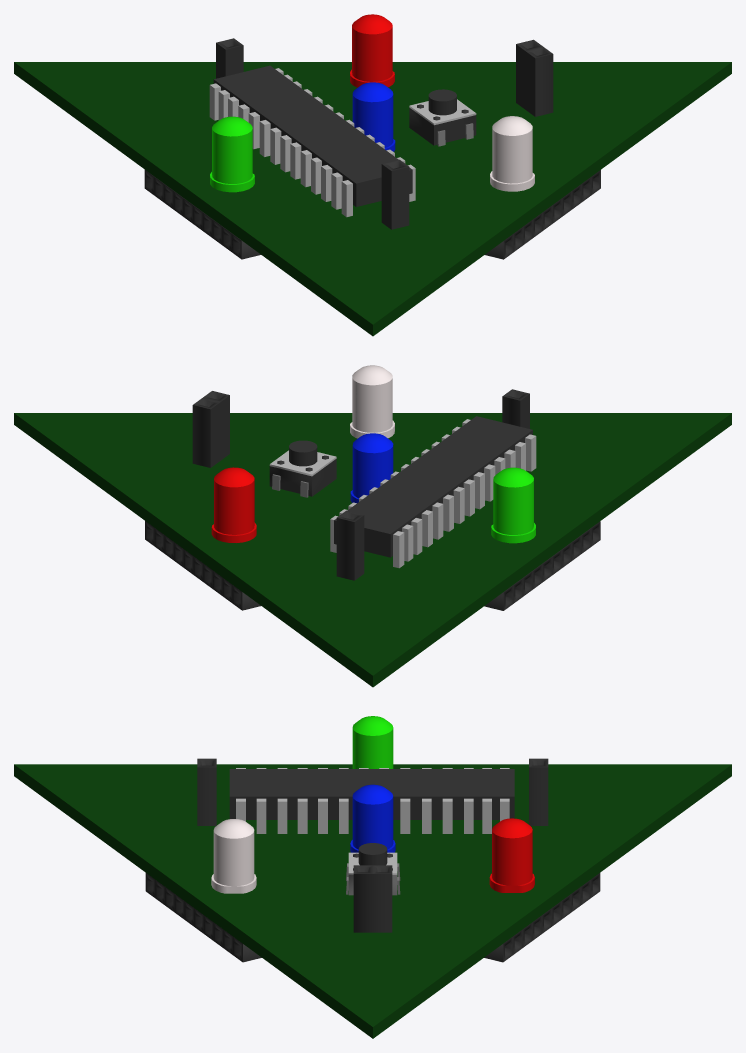
The model's file is componentBoard.obj.
3 views of the same model, one above another, from view 1: azimuth 30°, elevation 25°; view 2: azimuth 150°, elevation 25°; view 3: azimuth 270°, elevation 25° (orthographic).
Parts seen in each view (by area): view 1: pPyramid1, boardLayout:polySurface1, polySurface2, polySurface3, polySurface4, polySurface10, boardLayout:pCube3, polySurface1, pCube6, pCube9, polySurface8, polySurface9; view 2: pPyramid1, boardLayout:polySurface1, polySurface4, polySurface2, polySurface3, polySurface10, boardLayout:pCube3, polySurface1, pCube6, pCube10, polySurface9, polySurface8; view 3: pPyramid1, boardLayout:polySurface1, polySurface3, polySurface4, boardLayout:pCube3, polySurface1, pCube9, pCube10, polySurface2, polySurface10, polySurface8, polySurface9.
Boxes of the visible parts, x1=… form: pPyramid1: x1=14, y1=62, x2=731, y2=336; boardLayout:polySurface1: x1=209, y1=65, x2=415, y2=217; polySurface2: x1=210, y1=116, x2=254, y2=192; polySurface3: x1=490, y1=116, x2=534, y2=191; polySurface4: x1=350, y1=14, x2=394, y2=87; polySurface10: x1=409, y1=89, x2=476, y2=146; boardLayout:pCube3: x1=516, y1=39, x2=553, y2=116; polySurface1: x1=352, y1=82, x2=395, y2=151; pCube6: x1=144, y1=170, x2=260, y2=259; pCube9: x1=485, y1=170, x2=600, y2=259; polySurface8: x1=381, y1=159, x2=409, y2=229; polySurface9: x1=216, y1=38, x2=243, y2=78; pPyramid1: x1=14, y1=413, x2=731, y2=687; boardLayout:polySurface1: x1=330, y1=416, x2=536, y2=568; polySurface4: x1=211, y1=467, x2=256, y2=542; polySurface2: x1=491, y1=467, x2=535, y2=543; polySurface3: x1=350, y1=365, x2=394, y2=438; polySurface10: x1=269, y1=440, x2=336, y2=497; boardLayout:pCube3: x1=192, y1=391, x2=229, y2=467; polySurface1: x1=350, y1=433, x2=393, y2=503; pCube6: x1=484, y1=521, x2=600, y2=610; pCube10: x1=145, y1=521, x2=260, y2=610; polySurface9: x1=336, y1=510, x2=364, y2=580; polySurface8: x1=502, y1=389, x2=529, y2=428; pPyramid1: x1=14, y1=764, x2=731, y2=1038; boardLayout:polySurface1: x1=229, y1=768, x2=514, y2=833; polySurface3: x1=211, y1=819, x2=256, y2=893; polySurface4: x1=489, y1=818, x2=534, y2=892; boardLayout:pCube3: x1=353, y1=865, x2=392, y2=932; polySurface1: x1=350, y1=784, x2=395, y2=852; pCube9: x1=145, y1=873, x2=261, y2=962; pCube10: x1=484, y1=873, x2=600, y2=962; polySurface2: x1=352, y1=716, x2=393, y2=768; polySurface10: x1=346, y1=843, x2=400, y2=895; polySurface8: x1=197, y1=758, x2=216, y2=825; polySurface9: x1=529, y1=758, x2=548, y2=825.
Bounding box in the file's own units: 3 × 0.509 × 3.46.
